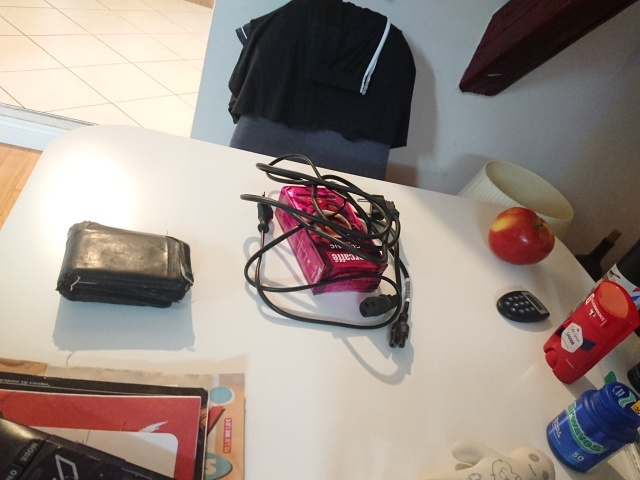Barcaffe Classic Original 225g: (270, 181, 392, 298)
